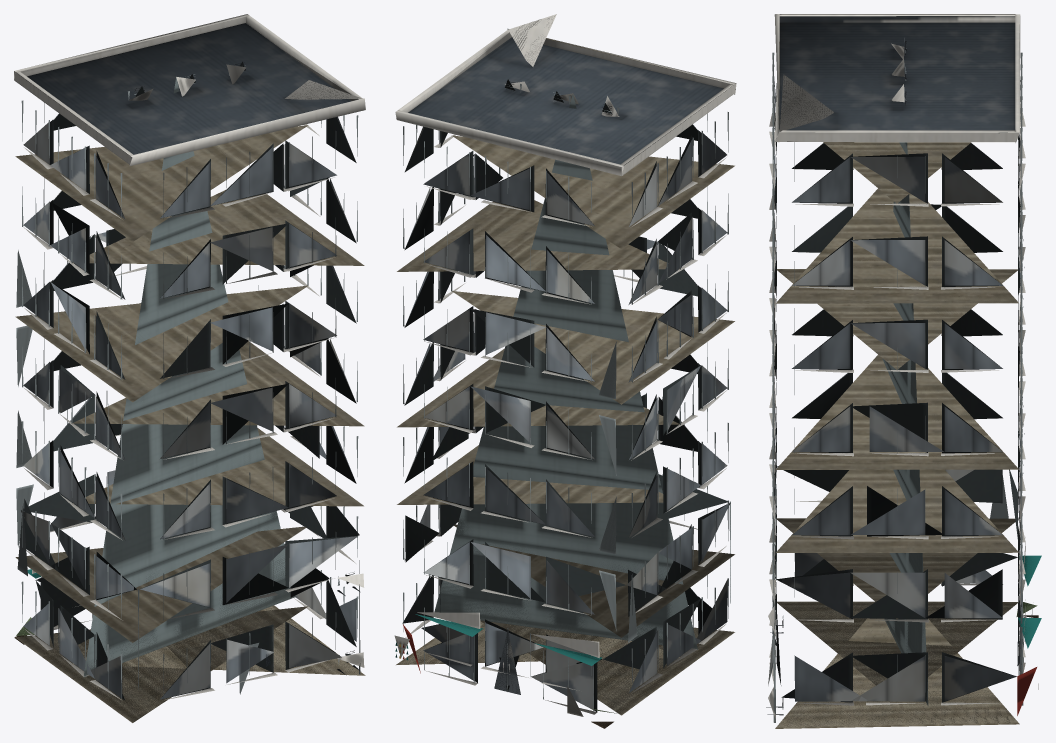
The model's file is shop_008.lod2.obj.
3 renders of one model, left to right at view 1: azimuth 30°, elevation 25°; view 2: azimuth 150°, elevation 25°; view 3: azimuth 270°, elevation 25°, orthographic. The views are drawn at different scales.
Visible parts, largest first — view 1: shop_008; view 2: shop_008; view 3: shop_008.
Boxes of the visible parts, bbox=[...] form: shop_008: bbox=[14, 14, 365, 722]; shop_008: bbox=[394, 14, 736, 728]; shop_008: bbox=[766, 14, 1041, 728].
Size of the model in its own units: 9.67 by 23.05 by 9.2.
1 material, 1 textured.
